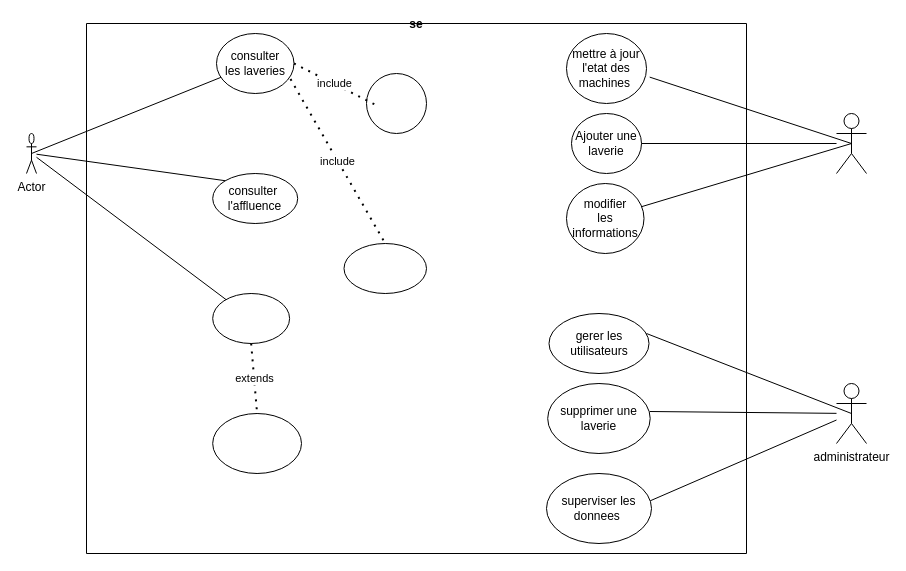
Some shapes in this 906 by 571 pixel diagram are drawn without their labels. Here are the shapes that lost their labels. From the top down, the centre of each, then its label:
point (396, 103): voir les machines dispo
point (851, 143): gerant
point (384, 268): voir les tarifs
point (251, 318): creer un compte
point (257, 443): se connecter
